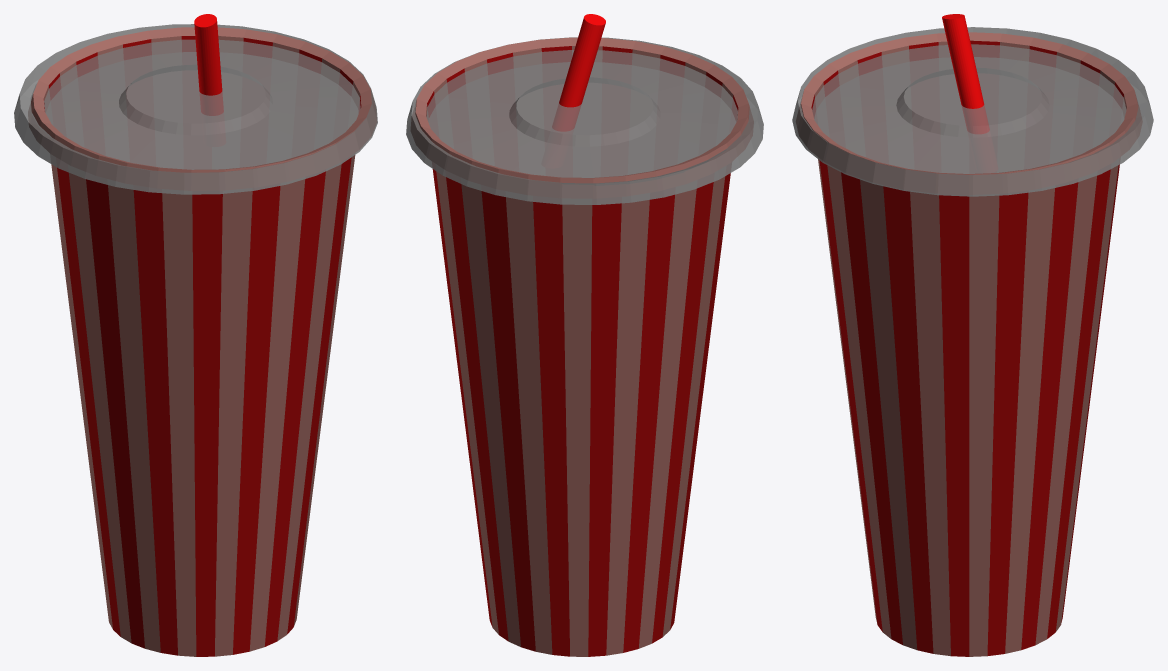
Rendered from drink.obj.
3 views of the same model, side by side, from view 1: azimuth 30°, elevation 25°; view 2: azimuth 150°, elevation 25°; view 3: azimuth 270°, elevation 25° (orthographic).
Parts seen in each view (by area): view 1: Boisson_Cylinder.004, Couvercle_Circle.002, Paille_Circle.003; view 2: Boisson_Cylinder.004, Couvercle_Circle.002, Paille_Circle.003; view 3: Boisson_Cylinder.004, Couvercle_Circle.002, Paille_Circle.003.
Boxes of the visible parts, x1=… form: Boisson_Cylinder.004: x1=28, y1=27, x2=376, y2=656; Couvercle_Circle.002: x1=14, y1=24, x2=377, y2=194; Paille_Circle.003: x1=194, y1=14, x2=223, y2=115; Boisson_Cylinder.004: x1=411, y1=37, x2=753, y2=656; Couvercle_Circle.002: x1=406, y1=37, x2=763, y2=204; Paille_Circle.003: x1=552, y1=14, x2=605, y2=131; Boisson_Cylinder.004: x1=796, y1=32, x2=1142, y2=656; Couvercle_Circle.002: x1=792, y1=27, x2=1153, y2=196; Paille_Circle.003: x1=942, y1=14, x2=989, y2=134.
Bounding box in the file's own units: 57.7 × 106 × 57.7.
